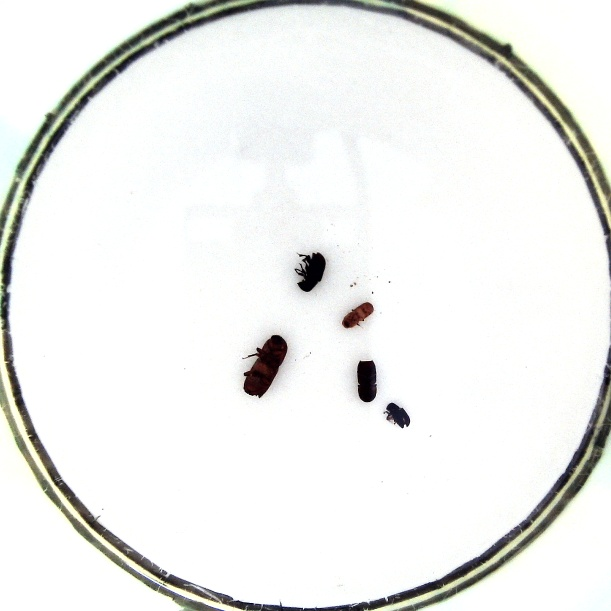acuminatus: (341, 299, 377, 332)
armandi: (291, 249, 326, 294)
boerner: (239, 332, 288, 398)
coleoptera: (384, 400, 414, 431)
linnaeus: (355, 356, 378, 404)
